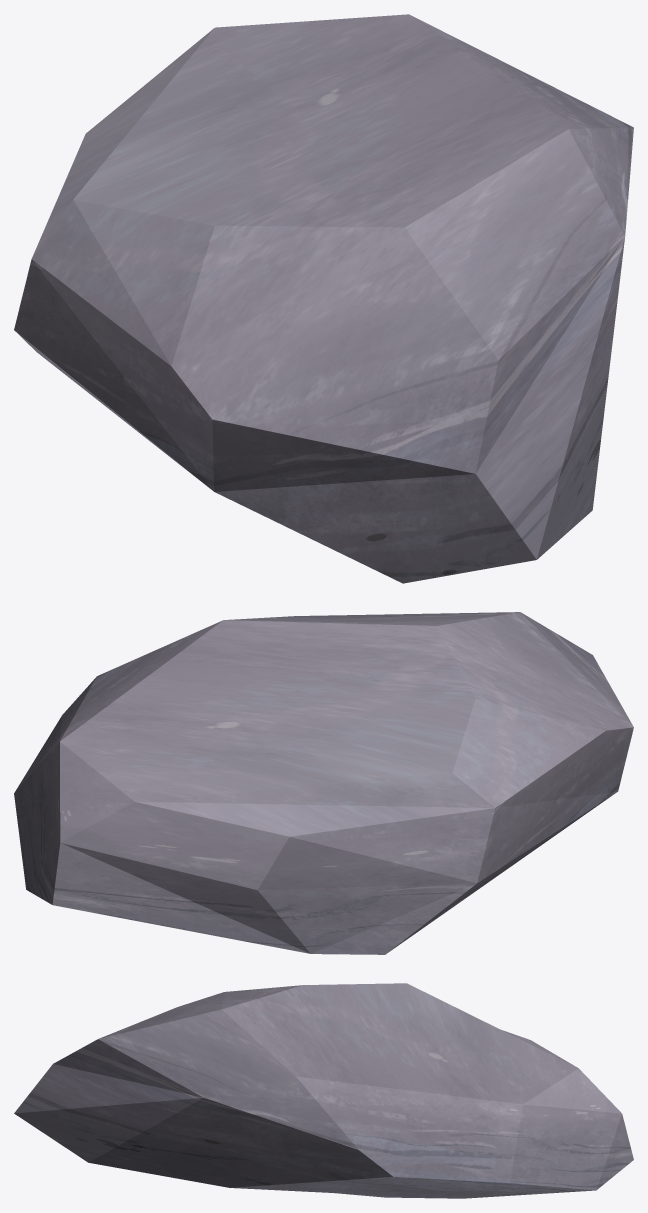
The model's file is rock_2_002.fbx.
The picture shows the model from 3 angles, top to bottom: view 1: azimuth 30°, elevation 25°; view 2: azimuth 150°, elevation 25°; view 3: azimuth 270°, elevation 25°; orthographic projection. The views are drawn at different scales.
Visible parts, largest first — view 1: rock 2.002; view 2: rock 2.002; view 3: rock 2.002.
Boxes of the visible parts, bbox=[...] form: rock 2.002: bbox=[14, 14, 633, 583]; rock 2.002: bbox=[14, 612, 633, 954]; rock 2.002: bbox=[14, 983, 633, 1198].
Bounding box in the file's own units: 1004 × 470 × 1521.
